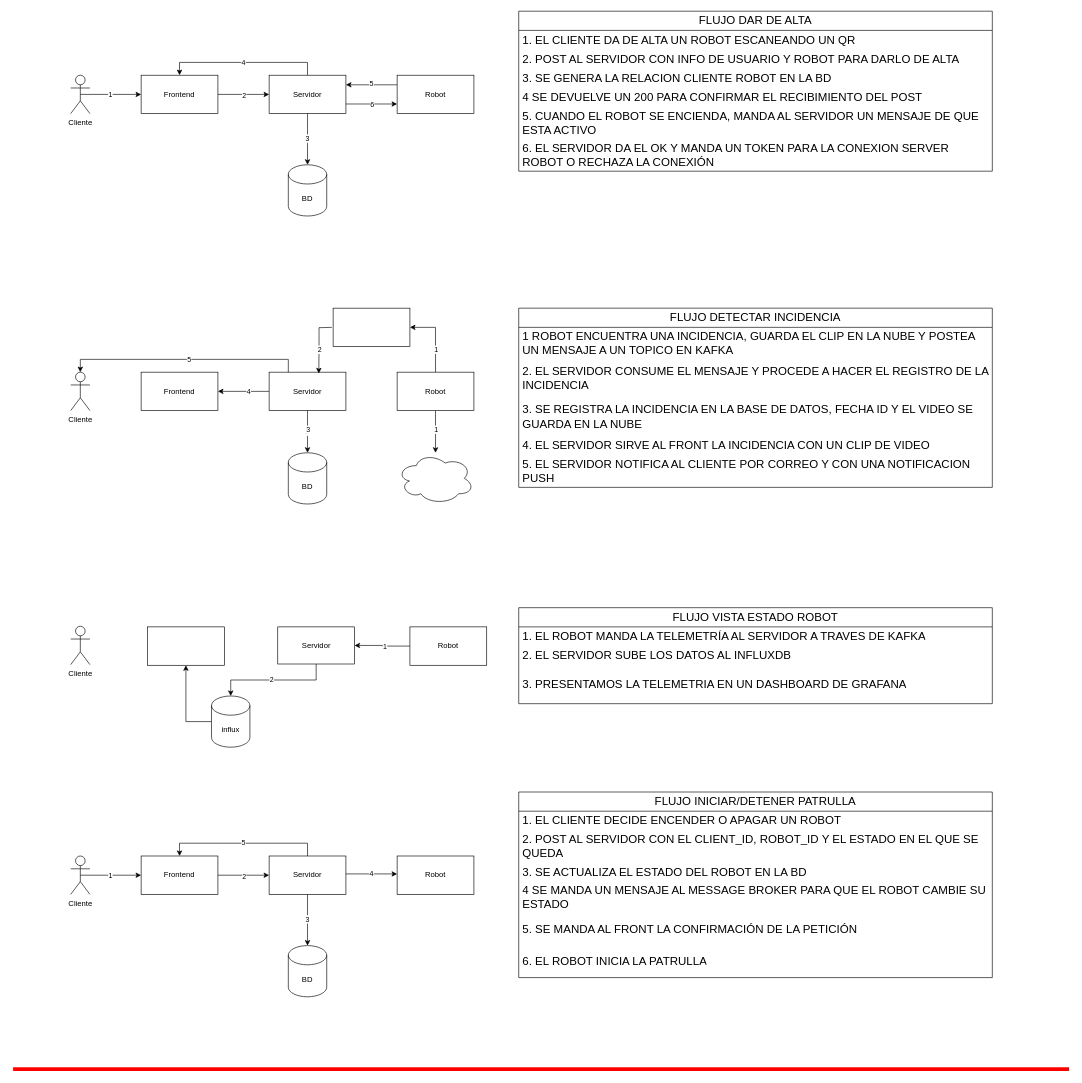
Some shapes in this 1082 by 1083 pixel diagram are drawn without their labels. The centre of each missing label's shape, as x and y in pixels:
"cloud" goes at point (435, 478).
"grafana" goes at point (185, 645).
"Message broker" goes at point (371, 327).
